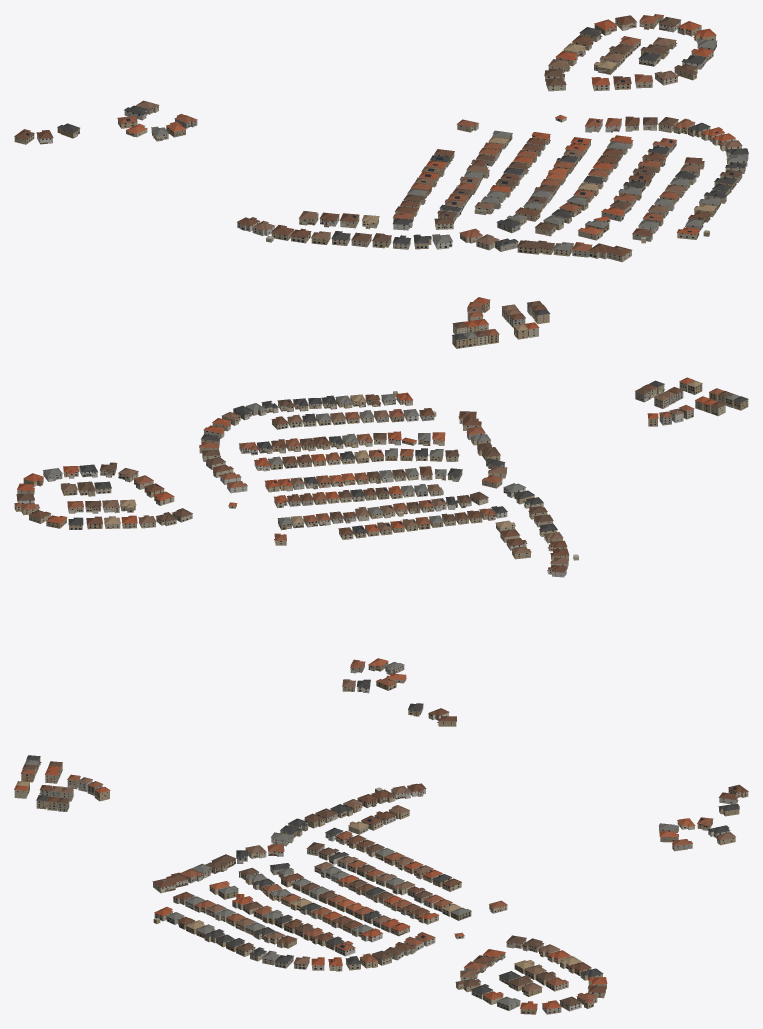
The picture shows the model from 3 angles, top to bottom: view 1: azimuth 30°, elevation 25°; view 2: azimuth 150°, elevation 25°; view 3: azimuth 270°, elevation 25°; orthographic projection. The views are drawn at different scales.
Parts seen in each view (by area): view 1: buildings_r7_c5_lod0; view 2: buildings_r7_c5_lod0; view 3: buildings_r7_c5_lod0.
Boxes of the visible parts, x1,y1,x2,y2 form: buildings_r7_c5_lod0: (14, 14, 748, 348); buildings_r7_c5_lod0: (14, 377, 748, 726); buildings_r7_c5_lod0: (14, 755, 748, 1014).
Bounding box in the file's own units: 692 × 77.66 × 806.
